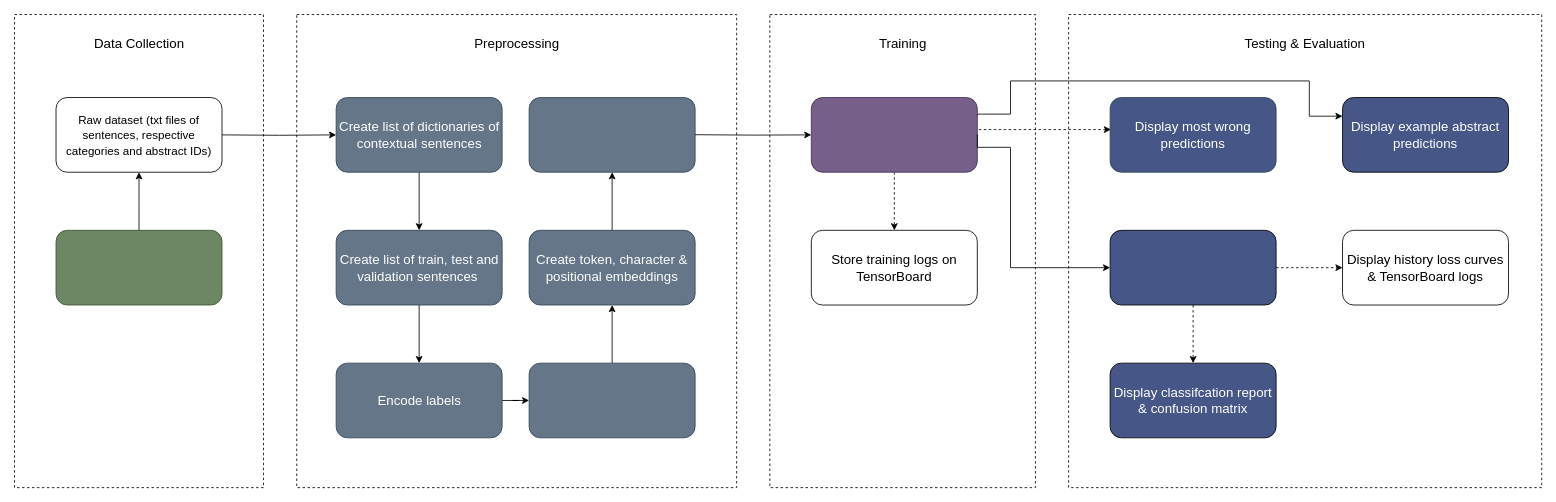
This 1556x502 diagram has some shape labels left out. Each missing label, with the box of its shape:
Create TensorFlow datasets: (528, 97, 695, 172)
Create text & character vectorizers: (528, 362, 695, 438)
Display test data predictions & respective evaluation metrics: (1109, 229, 1276, 305)
PubMed GitHub: (55, 229, 222, 305)
Train LSTM tribid neural network: (810, 97, 977, 172)
